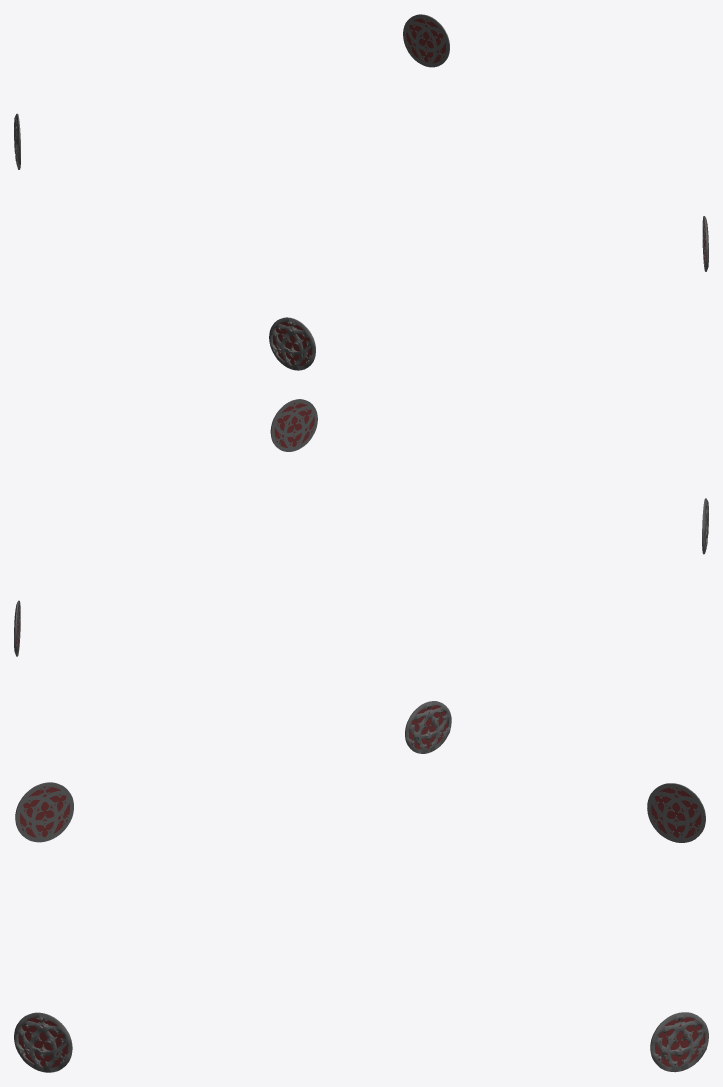
File: Windows.fbx
The picture shows the model from 3 angles, top to bottom: view 1: azimuth 30°, elevation 25°; view 2: azimuth 150°, elevation 25°; view 3: azimuth 270°, elevation 25°; orthographic projection. The views are drawn at different scales.
Parts seen in each view (by area): view 1: Window_v2_adams10:ball_deco1; view 2: Window_v2_adams10:ball_deco1; view 3: Window_v2_adams10:ball_deco1.
Part boxes in pixels (x1,y1,x2,y2): Window_v2_adams10:ball_deco1: (14,14,708,370); Window_v2_adams10:ball_deco1: (14,399,708,753); Window_v2_adams10:ball_deco1: (14,782,708,1072).
Size of the model in its own units: 4.47 by 0.5009 by 5.41.
